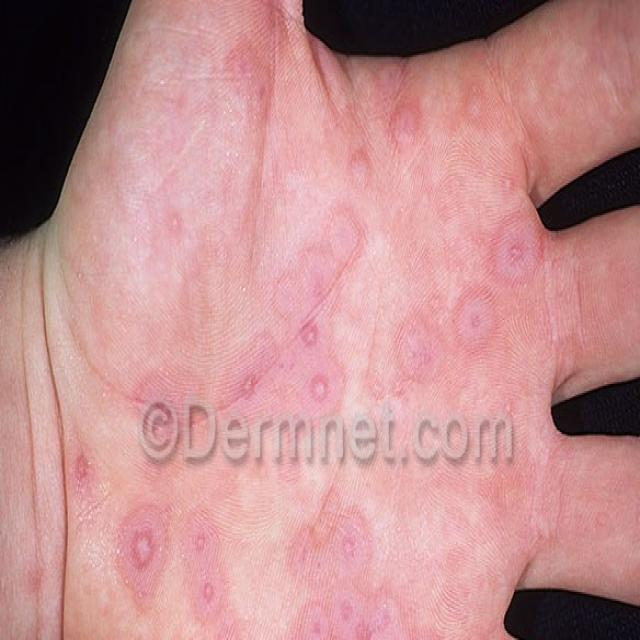Viral Infections: (209, 216, 560, 416), (117, 482, 451, 640), (335, 58, 490, 202), (201, 36, 288, 122), (57, 447, 111, 500), (19, 551, 52, 607), (159, 198, 189, 236)
